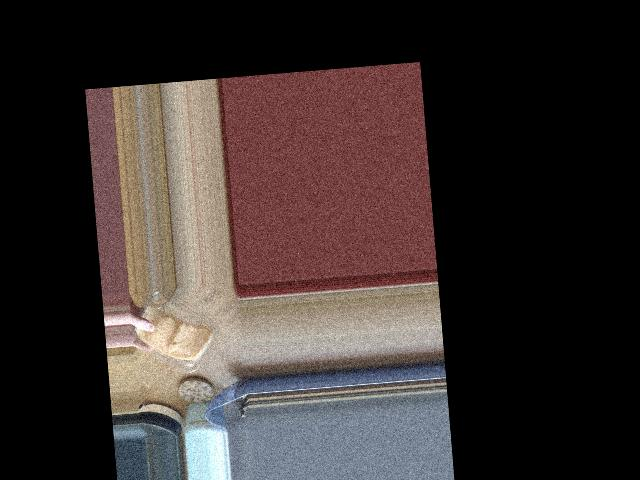cheese: (135, 286, 232, 384)
